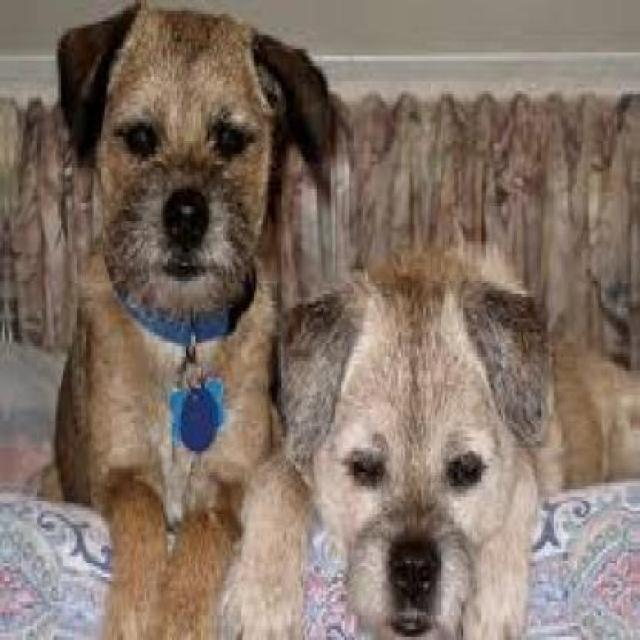animals: (56, 14, 327, 626), (273, 254, 579, 640)
